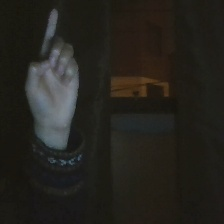D: (22, 5, 91, 133)
